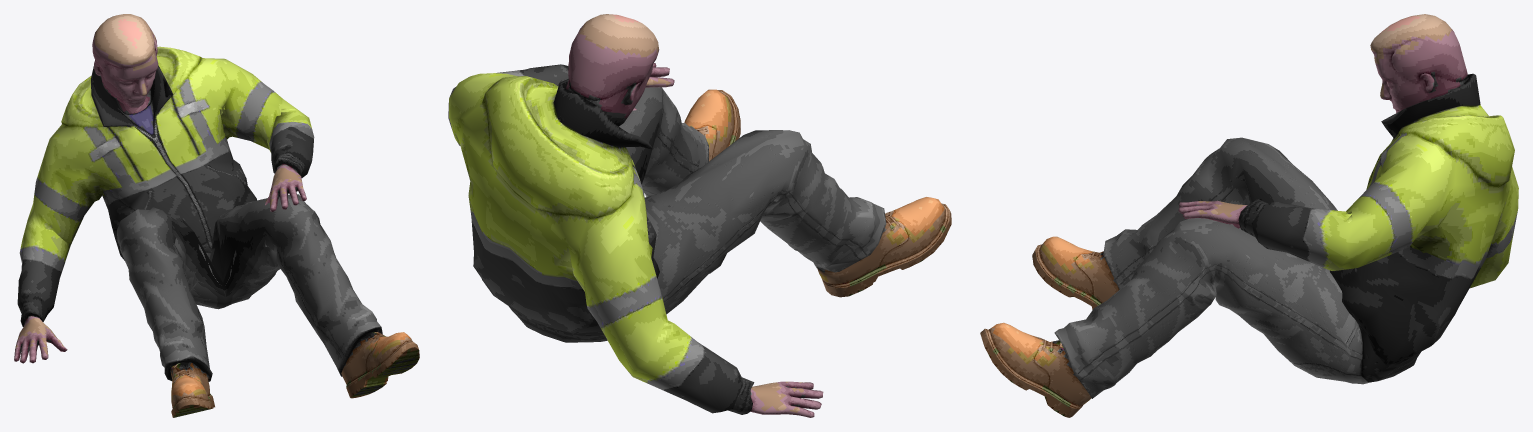
The model's file is survivor.dae.
3 views of the same model, side by side, from view 1: azimuth 30°, elevation 25°; view 2: azimuth 150°, elevation 25°; view 3: azimuth 270°, elevation 25° (orthographic). The views are drawn at different scales.
Parts seen in each view (by area): view 1: RescueRandy_Sitting; view 2: RescueRandy_Sitting; view 3: RescueRandy_Sitting.
Part boxes in pixels (left/top/right/bottom): RescueRandy_Sitting: left=14, top=14, right=419, bottom=417; RescueRandy_Sitting: left=448, top=14, right=951, bottom=417; RescueRandy_Sitting: left=980, top=14, right=1518, bottom=417.
Size of the model in its own units: 7472 by 10184 by 7299.
1 material, 1 textured.
